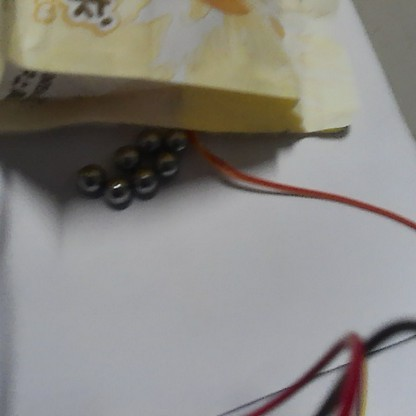ironball: (74, 160, 107, 196), (129, 164, 161, 198), (102, 177, 135, 208), (162, 125, 190, 159), (113, 143, 144, 173), (154, 149, 183, 180), (131, 127, 163, 155)
